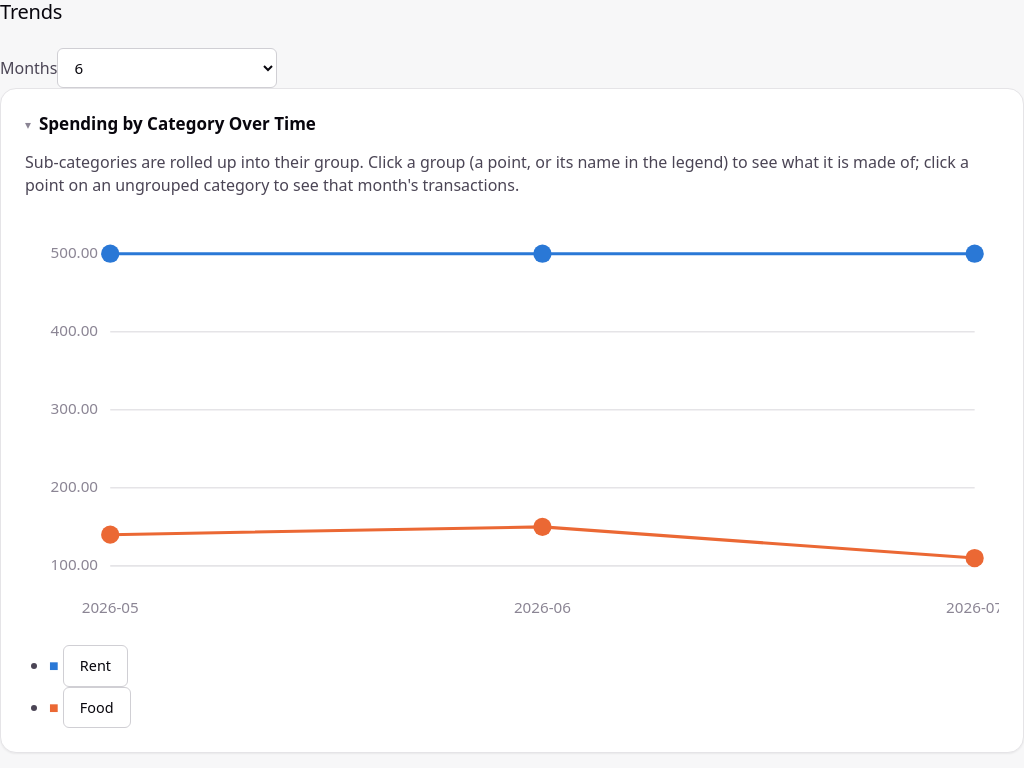
TrendsPage drill-down › drills into a group from its legend entry, and back out again
Expected: the button "▾ Spending by Category Over Time" is shown, [25,113,999,135]
Click the button "Food" at (97, 707), box [63,687,130,728]
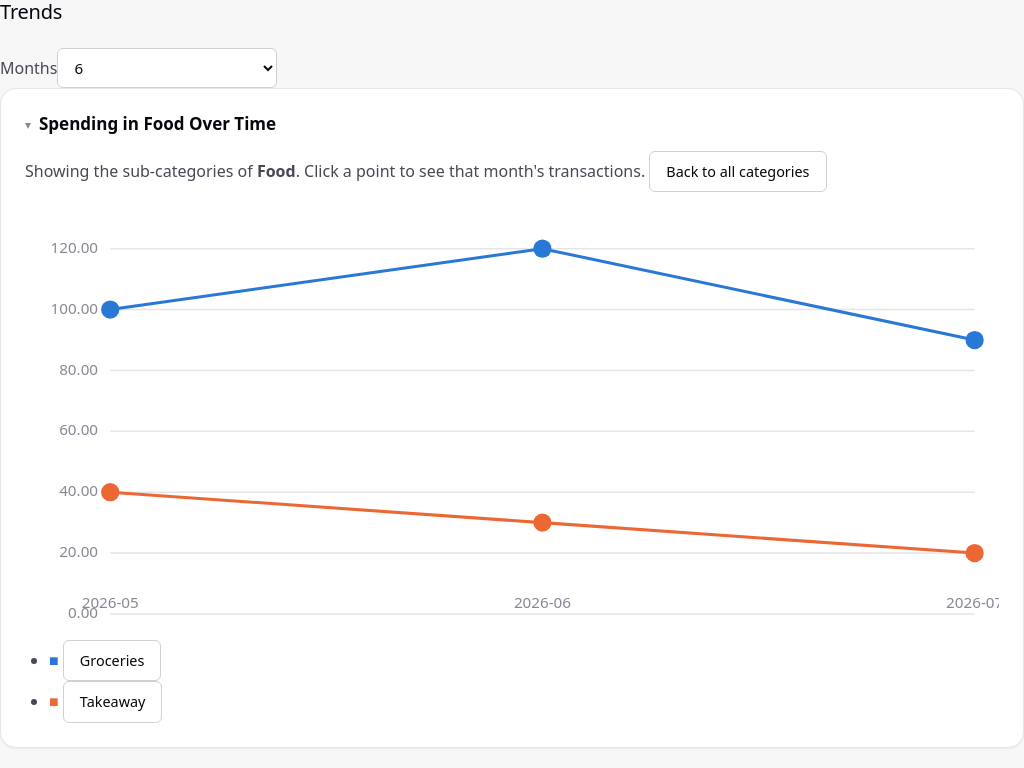
Now the button "▾ Spending in Food Over Time" is shown, box [25,113,999,135]
Now the button "Groceries" is shown, box [63,640,161,681]
Now the button "Takeaway" is shown, box [63,681,162,723]
Click the button "Back to all categories" at (738, 171), box [649,151,827,192]
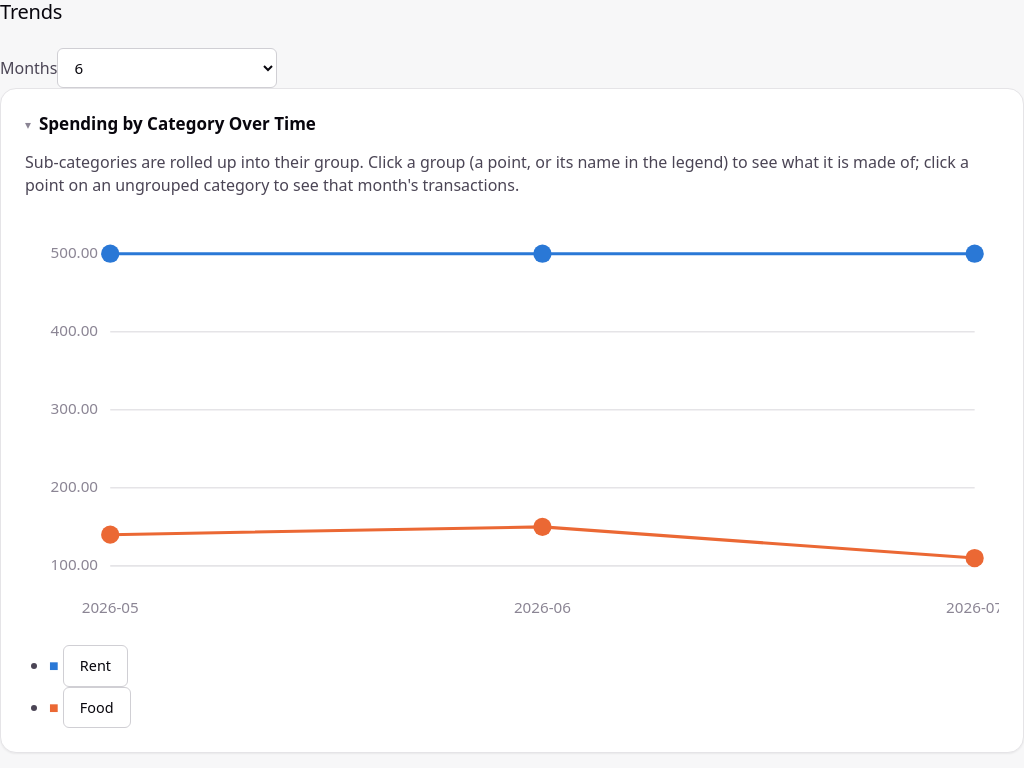
Now the button "▾ Spending by Category Over Time" is shown, box [25,113,999,135]
